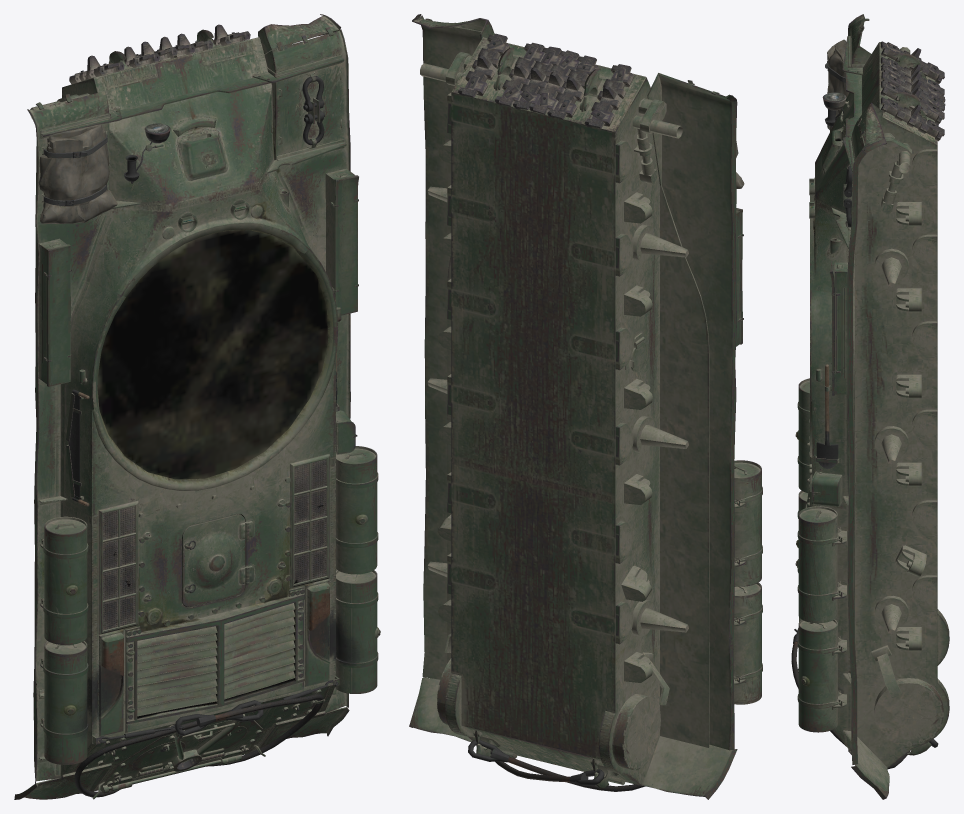
Rendered from Hull.glb.
The picture shows the model from 3 angles, left to right: view 1: azimuth 30°, elevation 25°; view 2: azimuth 150°, elevation 25°; view 3: azimuth 270°, elevation 25°; orthographic projection. The views are drawn at different scales.
Visible parts, largest first — view 1: set_0_group_0; view 2: set_0_group_0; view 3: set_0_group_0.
Part boxes in pixels (left/top/right/bottom): set_0_group_0: left=14, top=14, right=380, bottom=799; set_0_group_0: left=409, top=14, right=762, bottom=799; set_0_group_0: left=791, top=14, right=949, bottom=799.
Size of the model in its own units: 3.17 by 6.83 by 1.44.
1 material, 1 textured.
